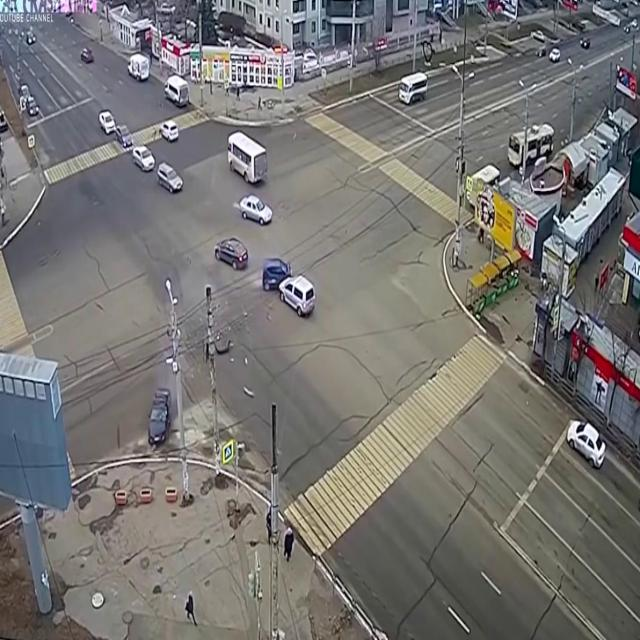accident: (145, 229, 255, 463), (257, 246, 319, 326)
non_accident: (96, 104, 186, 200)
